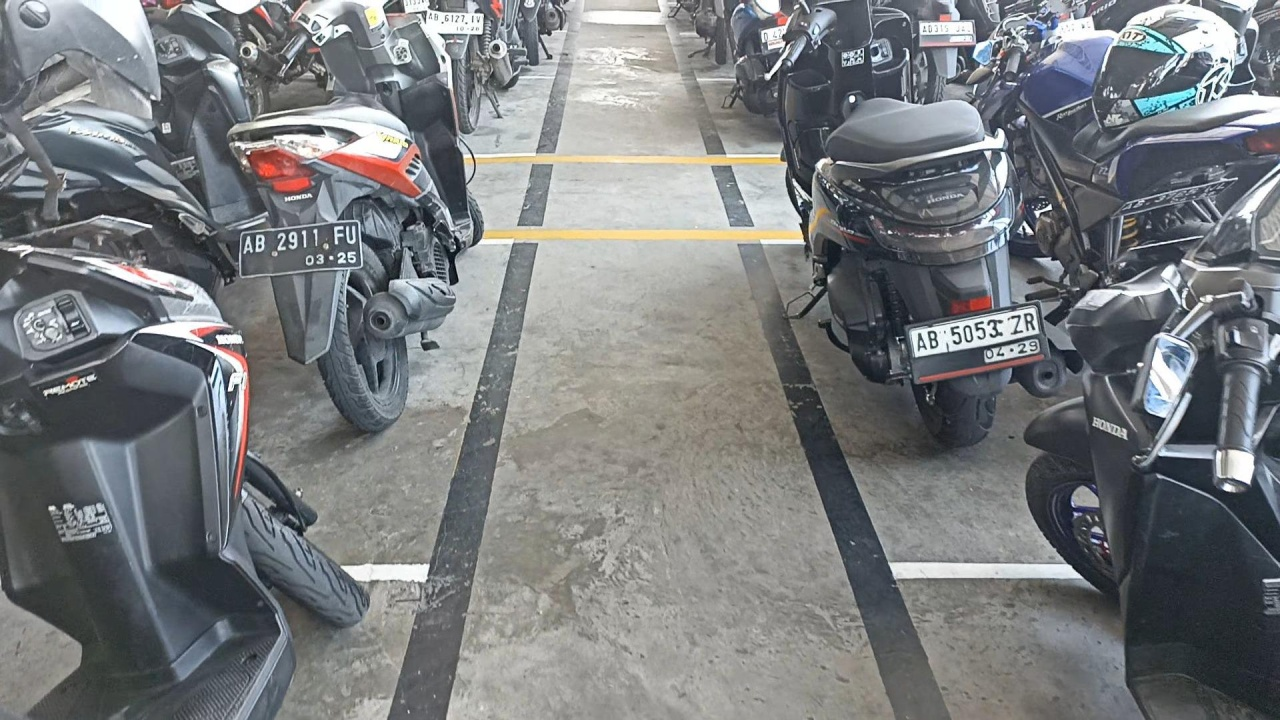plate: (908, 302, 1048, 384), (240, 220, 362, 279), (920, 21, 975, 46), (426, 10, 483, 34)
